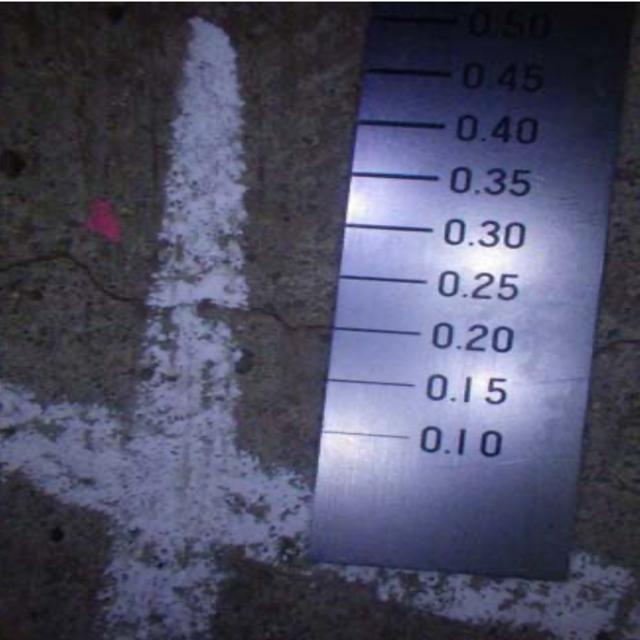crack: (7, 244, 320, 340)
